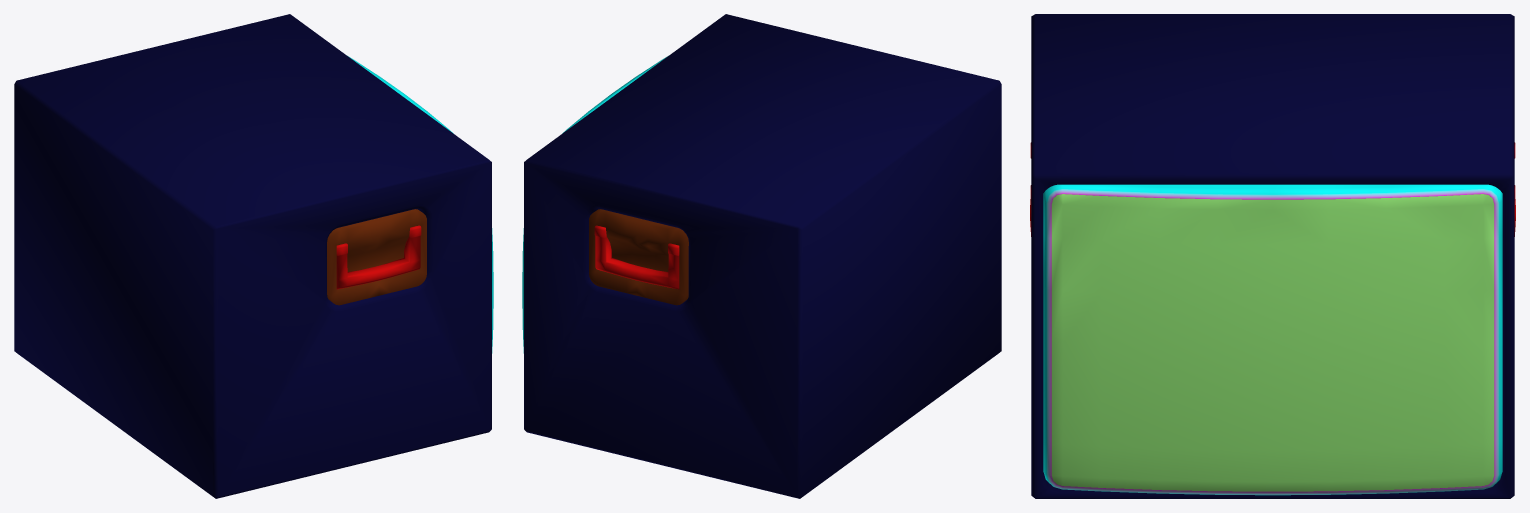
The picture shows the model from 3 angles, left to right: view 1: azimuth 30°, elevation 25°; view 2: azimuth 150°, elevation 25°; view 3: azimuth 270°, elevation 25°; orthographic projection. The views are drawn at different scales.
Parts seen in each view (by area): view 1: barco_rebuildV2_low (×2); view 2: barco_rebuildV2_low (×2); view 3: barco_rebuildV2_low (×3).
Boxes of the visible parts, box(x1,y1,x2,y2) form: barco_rebuildV2_low (×2): box(14, 14, 493, 498); barco_rebuildV2_low (×2): box(522, 14, 1001, 498); barco_rebuildV2_low (×3): box(1030, 14, 1515, 498).
Size of the model in its own units: 49.14 by 43.01 by 58.1.
